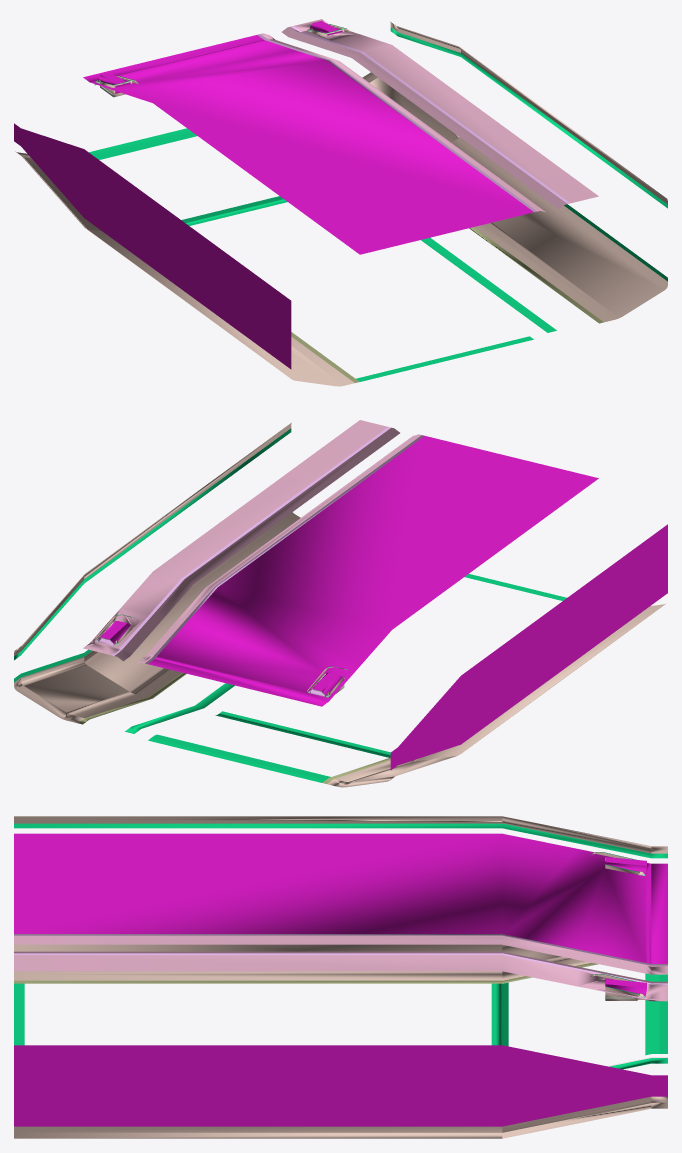
File: docking_lobby_ext_b_lod1.glb
The picture shows the model from 3 angles, top to bottom: view 1: azimuth 30°, elevation 25°; view 2: azimuth 150°, elevation 25°; view 3: azimuth 270°, elevation 25°; orthographic projection. The views are drawn at different scales.
Bounding box in the file's own units: 61.99 × 20.02 × 79.
